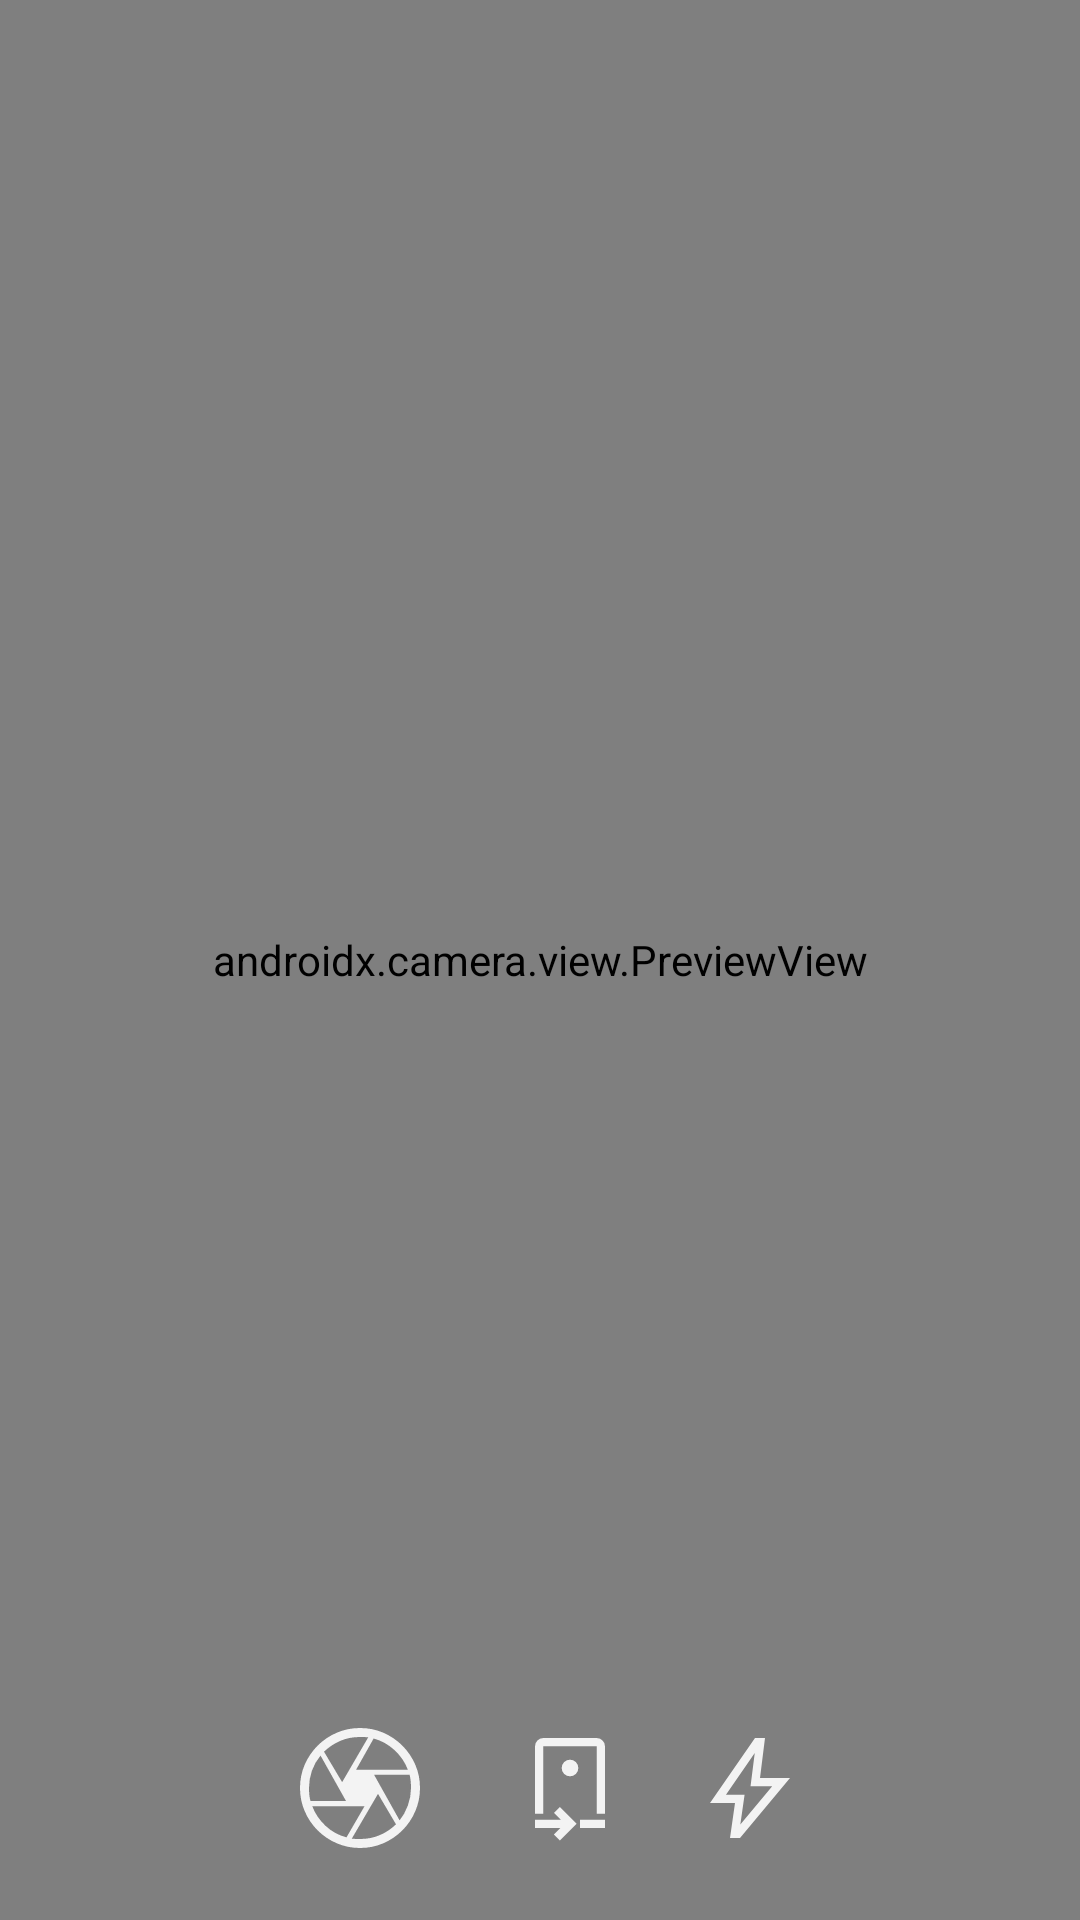

Screen size 1080 x 1920. Icon name, then its center in pixels as (x,y):
Cambiar cámara: (570,1789)
Flash: (750,1788)
Tomar foto: (360,1788)
